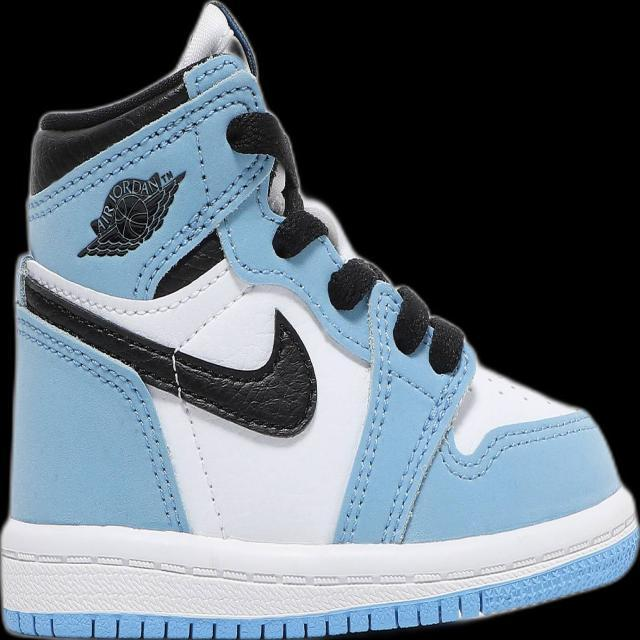J1_InsoleChar: (2, 2, 637, 637)
J1_ShoeLogo: (76, 167, 186, 259)
J1_StitchPattern: (15, 249, 474, 546), (21, 55, 331, 438), (2, 512, 637, 636), (18, 258, 318, 438), (25, 56, 264, 222), (15, 306, 190, 532), (169, 306, 318, 439), (333, 280, 404, 544), (224, 108, 329, 260), (377, 368, 467, 545), (166, 346, 230, 540)
